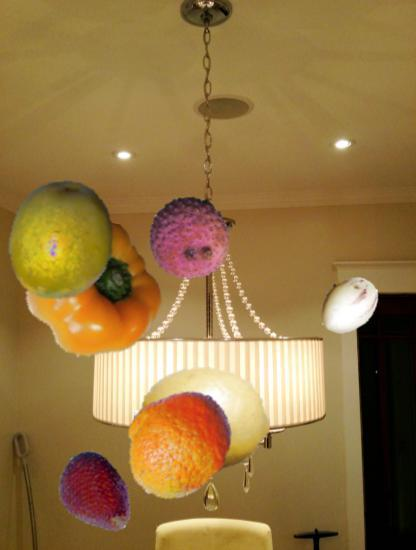Lemon: (134, 351, 270, 487)
Lychee: (147, 196, 234, 283)
Mandarine: (120, 386, 237, 503)
Maracuja: (0, 179, 122, 301)
Pepino: (316, 272, 381, 337)
Pepper: (26, 221, 165, 360)
Salak: (51, 451, 139, 539)
